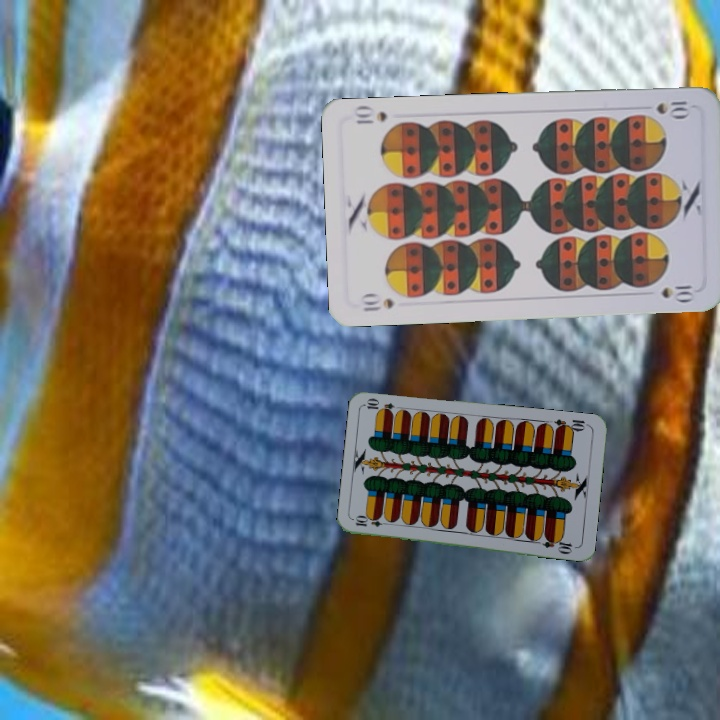E10: (551, 415, 591, 435), (351, 514, 392, 530)
S10: (653, 96, 693, 120), (357, 291, 397, 314)
